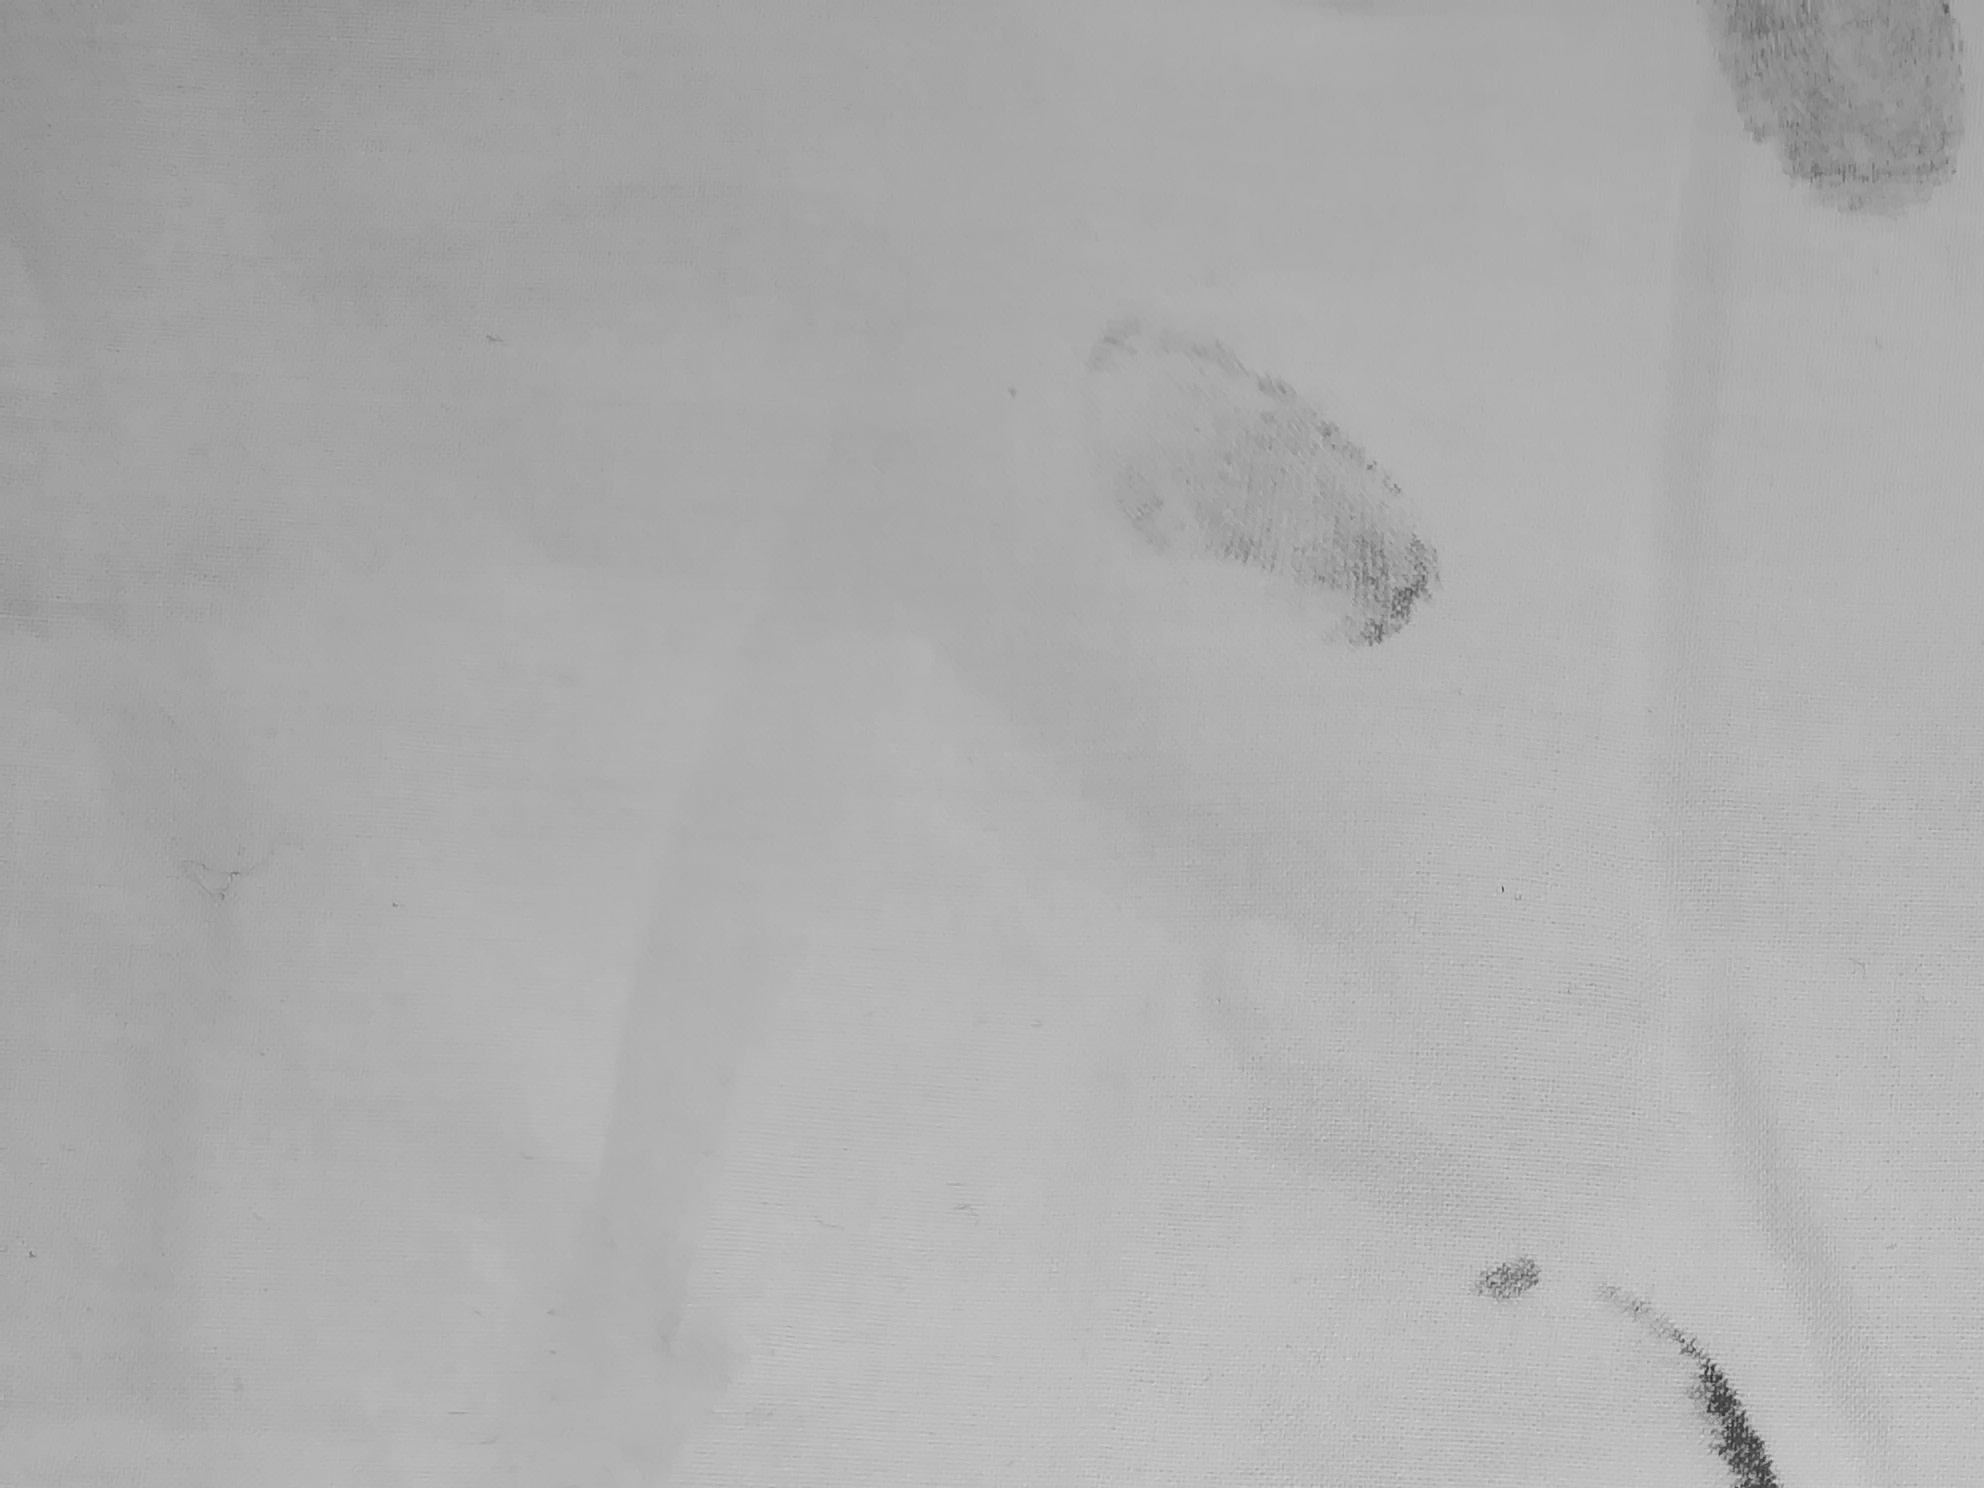Stain: (947, 231, 1556, 716), (1361, 1193, 1893, 1488), (1678, 2, 1972, 309)
